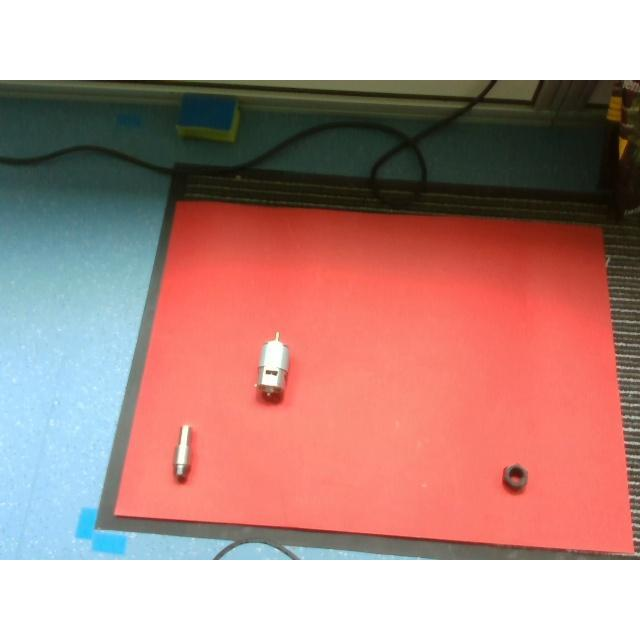Axis2: (170, 426, 193, 478)
M20: (502, 464, 528, 492)
Motor2: (254, 332, 292, 396)
